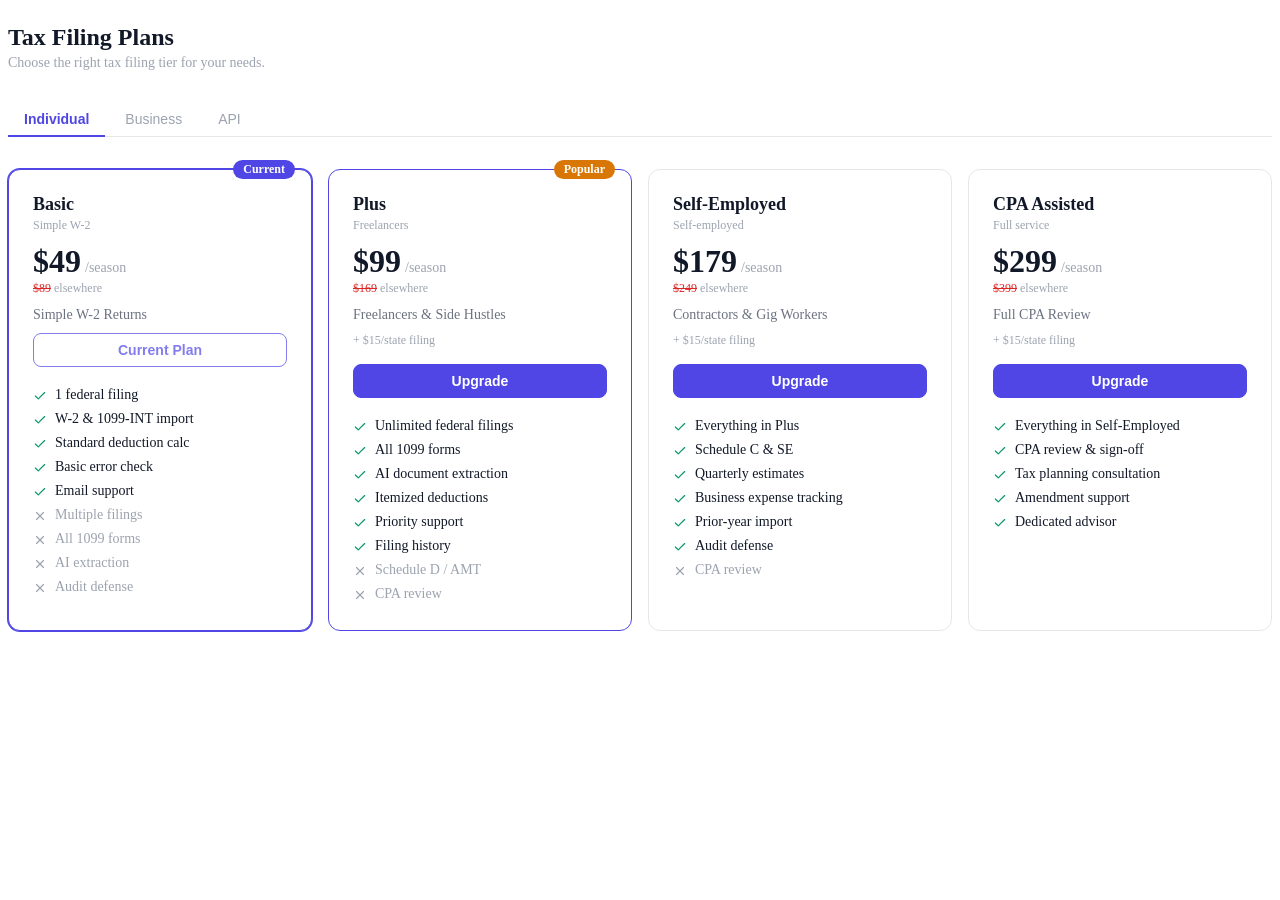
Test: TaxPricingPage › switches to Business tab
Click the tab "Business".
click(154, 120)  # box x1=109 y1=103 x2=198 y2=137
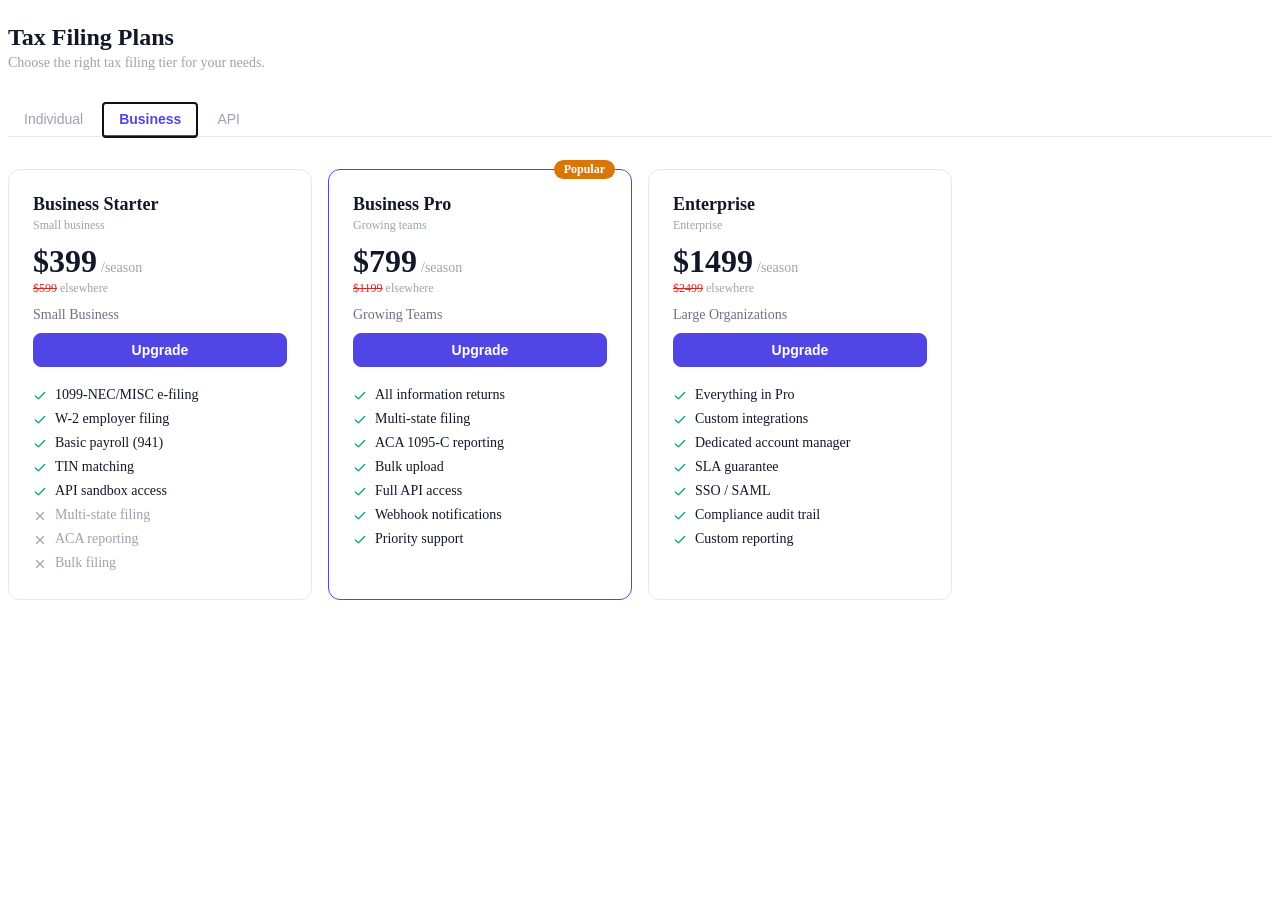
Expected: the heading "Business Starter" is shown, x1=33 y1=194 x2=158 y2=214
Expected: the heading "Business Pro" is shown, x1=353 y1=194 x2=451 y2=214
